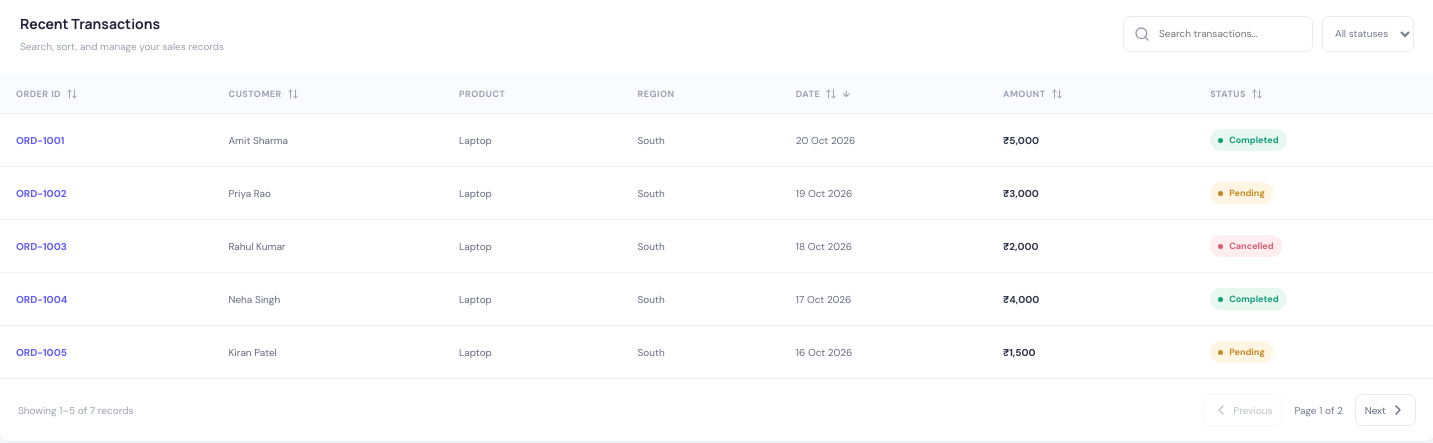
it: TransactionsTable › toggles the sort direction when the same header is clicked twice
Step 1. Click the button with aria-label "Sort by CUSTOMER" → (264, 94), box left=228, top=88, right=299, bottom=100
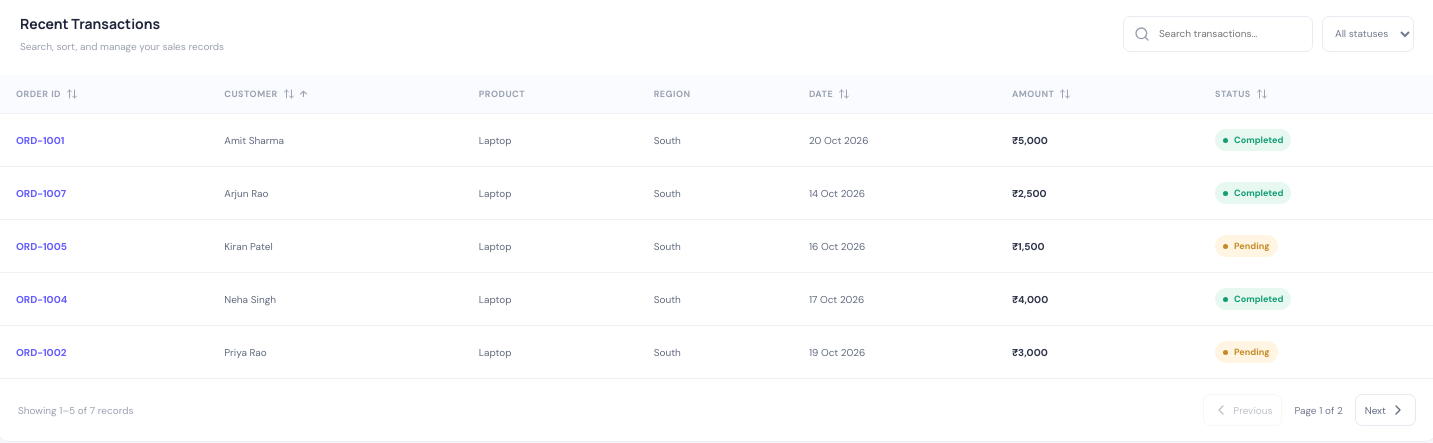
Expected: the button with aria-label "Sort by CUSTOMER" shows "↑"
Step 2. Click the button with aria-label "Sort by CUSTOMER" → (266, 94), box left=224, top=88, right=308, bottom=100
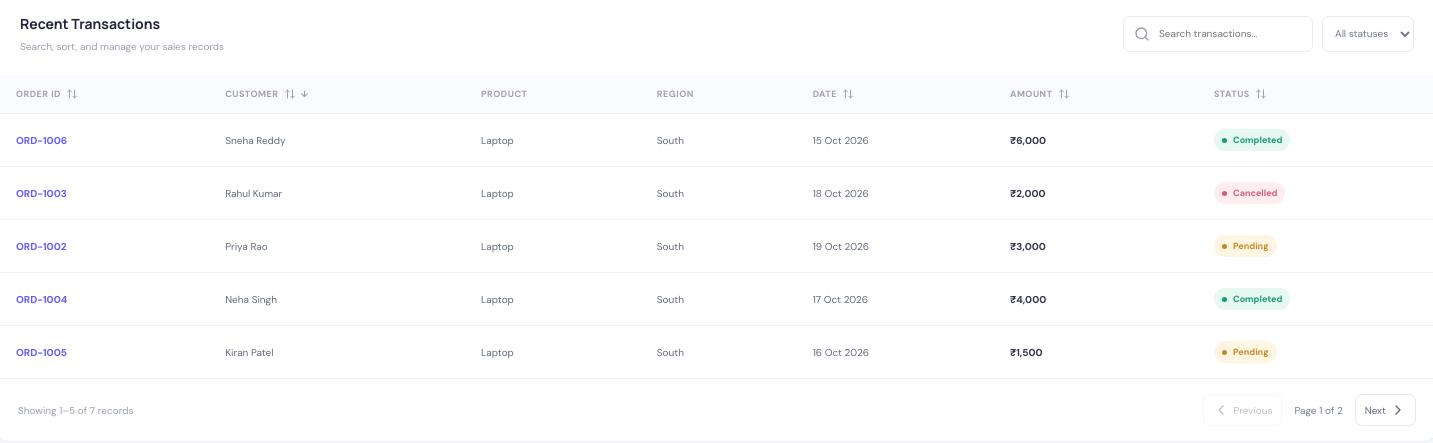
Expected: the button with aria-label "Sort by CUSTOMER" shows "↓", left=225, top=88, right=309, bottom=100
